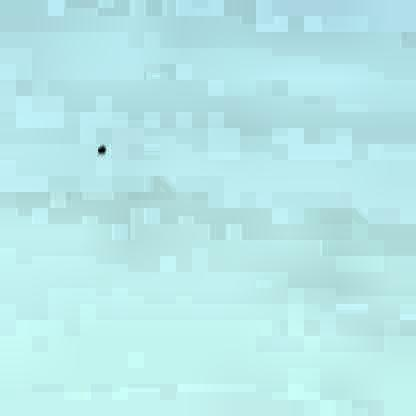golfball: (94, 141, 104, 151)
